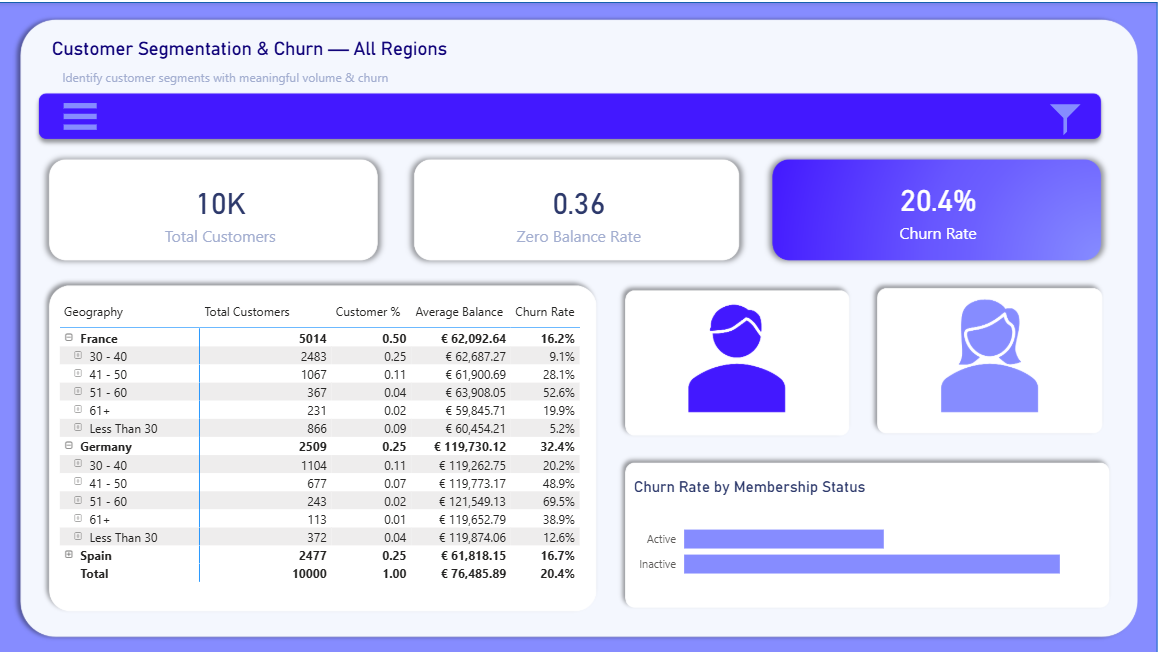

What the dashboard file says about the page in this screenshot:
{"tool":"powerbi","page":{"name":"Customer Segmentation & Churn","canvas":[1280,720],"ordinal":3},"visuals":[{"type":"shape","box":[0,0,1280.5,720.6],"z":0},{"type":"image","box":[170.6,106,41.4,43.1],"z":0,"group":"g1"},{"type":"slicer","fields":{"Values":["All_Data.Geography"]},"box":[236.5,102.7,127.5,46.4],"z":1000,"group":"g1"},{"type":"shape","title":"shape_slicer","box":[122.6,105.6,1007.5,42.4],"z":1000},{"type":"image","box":[14.3,16.3,1253.1,687.8],"z":2000},{"type":"slicer","fields":{"Values":["All_Data.Member Status"]},"box":[367.4,102.7,125.9,46.4],"z":2000,"group":"g1"},{"type":"image","box":[14.3,0,1244.9,720.4],"z":3000},{"type":"slicer","fields":{"Values":["All_Data.Age Group"]},"box":[496.6,102.7,154.1,46.4],"z":3000,"group":"g1"},{"type":"card","fields":{"Values":["_Measures.Title_Customer_Segmentation"]},"box":[38.1,34.8,478.7,33.1],"z":4000},{"type":"slicer","fields":{"Values":["All_Data.Tenure Group"]},"box":[652.3,102.7,154.1,46.4],"z":4000,"group":"g1"},{"type":"textbox","box":[62.9,67.9,376,29.8],"z":5000},{"type":"slicer","fields":{"Values":["Credit Score Tier Dim.Credit Score Tier"]},"box":[806.3,104.4,154.1,46.4],"z":5000,"group":"g1"},{"type":"slicer","fields":{"Values":["All_Data.NumOfProducts"]},"box":[960.4,104.4,154.1,46.4],"z":6000,"group":"g1"},{"type":"image","box":[1154.6,104.4,48,51.4],"z":6000},{"type":"card","fields":{"Values":["_Measures.Total Customers"]},"box":[67.9,177.2,354.5,107.7],"z":7000},{"type":"card","fields":{"Values":["_Measures.Zero Balance Rate"]},"box":[463.8,177.2,354.5,107.7],"z":8000},{"type":"card","fields":{"Values":["_Measures.Churn Rate"]},"box":[945.9,177.2,183.9,101],"z":9000},{"type":"group","id":"g1","title":"Group 1","box":[170.6,102.7,943.9,48],"z":10000},{"type":"image","box":[42.3,103.1,95.2,47.6],"z":12000},{"type":"pivotTable","fields":{"Rows":["All_Data.Geography","All_Data.Age Group","Balance Segment Dim.Balance Segment"],"Values":["_Measures.Total Customers","_Measures.Customer %","_Measures.Average Balance","_Measures.Churn Rate"]},"box":[63.3,326.5,589.8,334.7],"z":13000},{"type":"clusteredBarChart","title":"Churn Rate by Membership Status","fields":{"Category":["All_Data.Member Status"],"Y":["_Measures.Churn Rate"]},"box":[698,524.5,528.6,136.7],"z":14000}]}

Visuals, with their boxes in screenshot pixels (x1, y1, x2, y2), scaled from the page's 1280x720 canvas onto the 1158x652 screenshot:
shape: [0,0,1157,651]
image: [154,96,192,135]
slicer - All_Data.Geography: [214,93,329,135]
"shape_slicer" shape: [111,96,1022,134]
image: [13,15,1147,638]
slicer - All_Data.Member Status: [332,93,446,135]
image: [13,0,1139,651]
slicer - All_Data.Age Group: [449,93,589,135]
card - _Measures.Title_Customer_Segmentation: [34,32,468,61]
slicer - All_Data.Tenure Group: [590,93,730,135]
textbox: [57,61,397,88]
slicer - Credit Score Tier Dim.Credit Score Tier: [729,95,869,137]
slicer - All_Data.NumOfProducts: [869,95,1008,137]
image: [1045,95,1088,141]
card - _Measures.Total Customers: [61,160,382,258]
card - _Measures.Zero Balance Rate: [420,160,740,258]
card - _Measures.Churn Rate: [856,160,1022,252]
"Group 1" group: [154,93,1008,136]
image: [38,93,124,136]
pivotTable - All_Data.Geography x All_Data.Age Group: [57,296,591,599]
"Churn Rate by Membership Status" clusteredBarChart: [631,475,1110,599]
